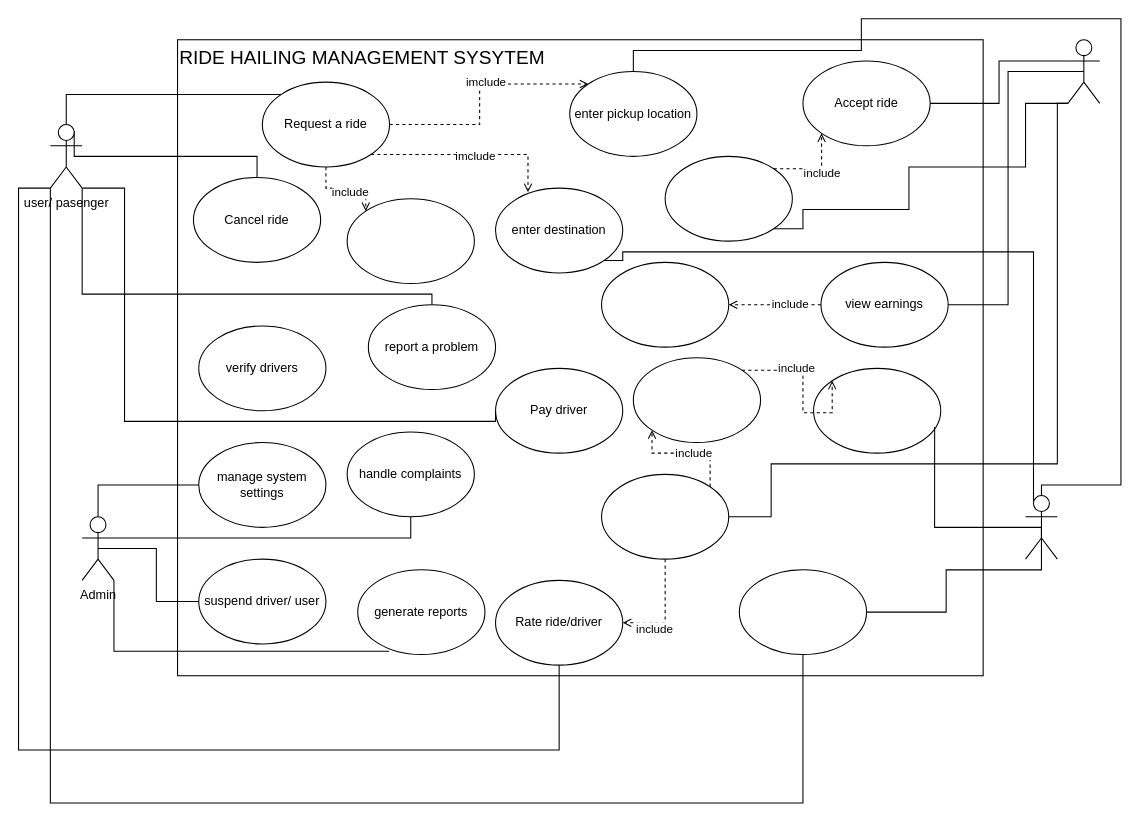
Image size: 1141x823. Some labels were removed from this diagram. Here are the shapes that lost their labels. From the top down, the centre of each, then its label:
At (1083,71): "Driver".
At (728,198): "receive ride request".
At (410,241): "find available drivers".
At (664,304): "view completed rides".
At (696,400): "calculate price".
At (876,410): "calculate distance".
At (664,516): "end ride/ collect payment".
At (1040,526): "GPS service".
At (802,612): "track the ride".
